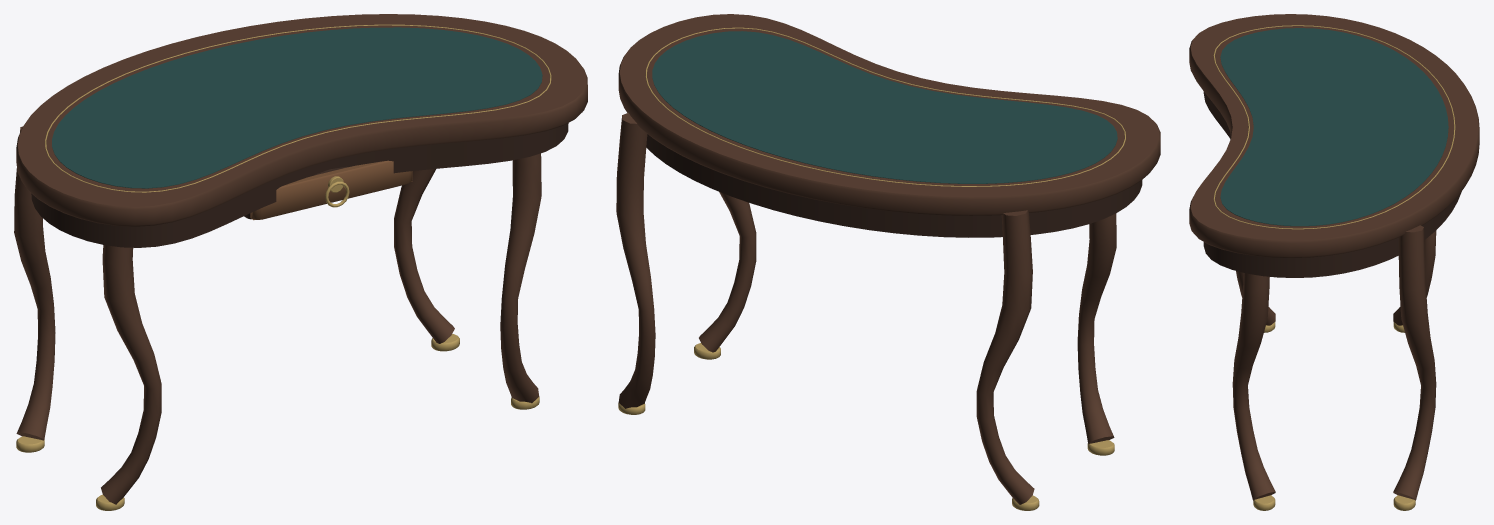
The model's file is rpg-mansion-kidney-writing-desk-01.glb.
3 renders of one model, left to right at view 1: azimuth 30°, elevation 25°; view 2: azimuth 150°, elevation 25°; view 3: azimuth 270°, elevation 25°, orthographic. The views are drawn at different scales.
Parts seen in each view (by area): view 1: rpg-mansion-kidney-writing-desk-01; view 2: rpg-mansion-kidney-writing-desk-01; view 3: rpg-mansion-kidney-writing-desk-01.
Boxes of the visible parts, <box> form: rpg-mansion-kidney-writing-desk-01: <box>14,14,587,510</box>; rpg-mansion-kidney-writing-desk-01: <box>616,14,1160,510</box>; rpg-mansion-kidney-writing-desk-01: <box>1189,14,1479,510</box>.
Size of the model in its own units: 1.3 by 0.771 by 0.7.
